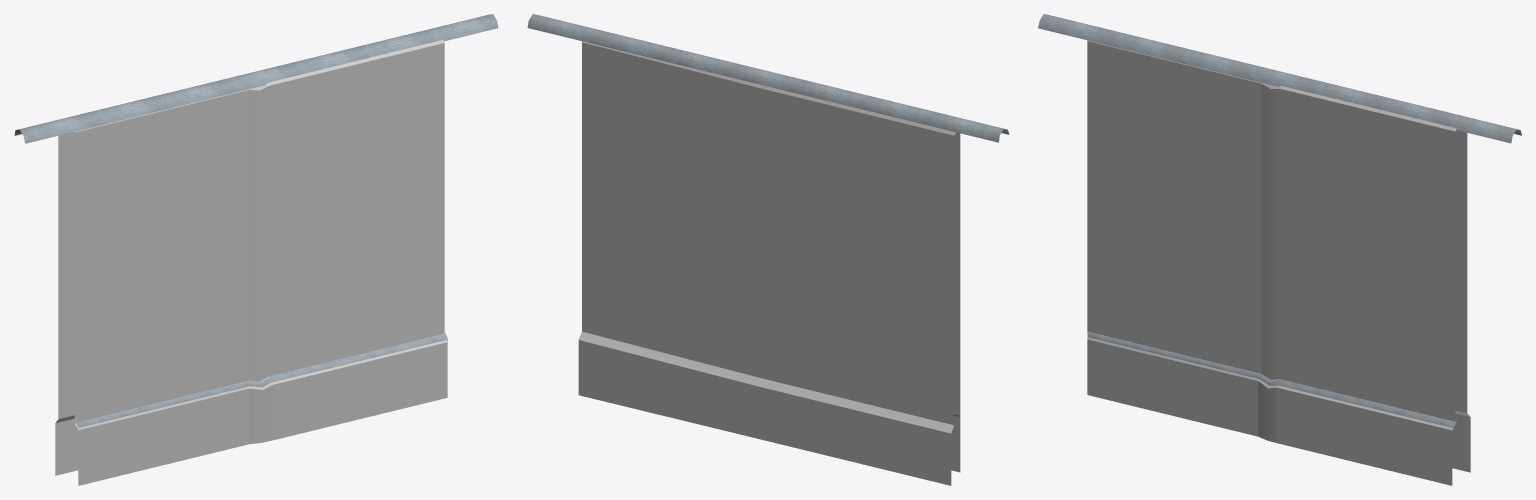
Rendered from yuanfangweiqiang.FBX.
The picture shows the model from 3 angles, left to right: view 1: azimuth 30°, elevation 25°; view 2: azimuth 150°, elevation 25°; view 3: azimuth 330°, elevation 25°; orthographic projection.
Parts seen in each view (by area): view 1: yuanfangweiqiang01, yuanfangweiqiang02; view 2: yuanfangweiqiang01, yuanfangweiqiang02; view 3: yuanfangweiqiang01, yuanfangweiqiang02.
Boxes of the visible parts, left/top/right/bottom form: yuanfangweiqiang01: left=55, top=40, right=447, bottom=485; yuanfangweiqiang02: left=14, top=14, right=498, bottom=427; yuanfangweiqiang01: left=578, top=41, right=960, bottom=485; yuanfangweiqiang02: left=527, top=14, right=1009, bottom=416; yuanfangweiqiang01: left=1087, top=40, right=1470, bottom=485; yuanfangweiqiang02: left=1038, top=14, right=1521, bottom=429.
Bounding box in the file's own units: 19.36 × 14.2 × 1.29.
